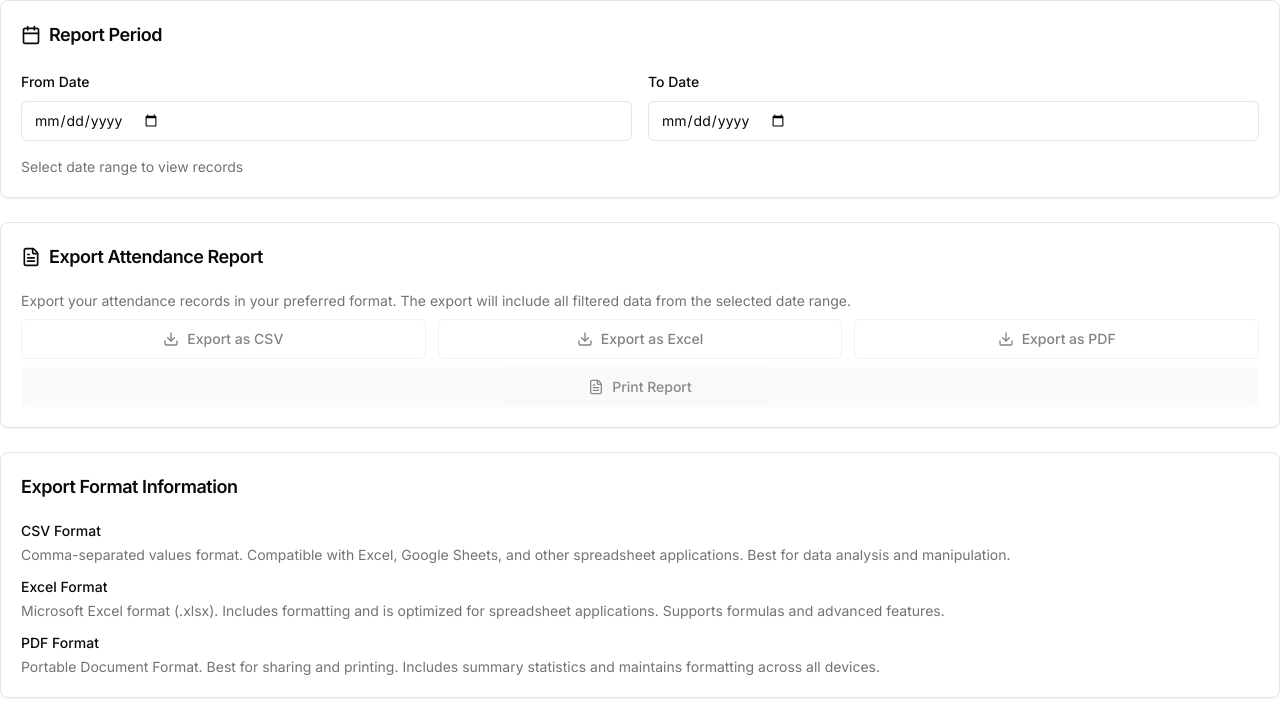
AttendanceReports › should display error message on export failure
In the date field labelled "From Date": (326, 121) 21,101 -> 632,141, type "2024-01-01"
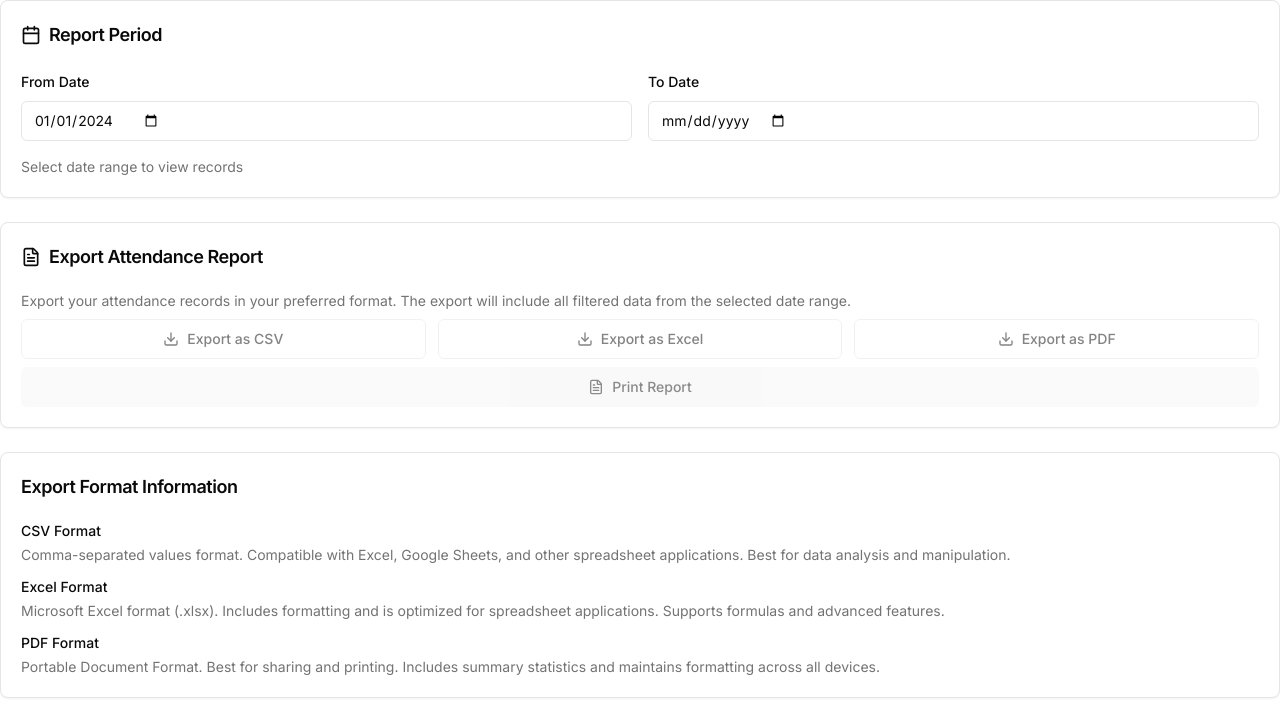
In the date field labelled "To Date": (954, 121) 648,101 -> 1259,141, type "2024-01-31"
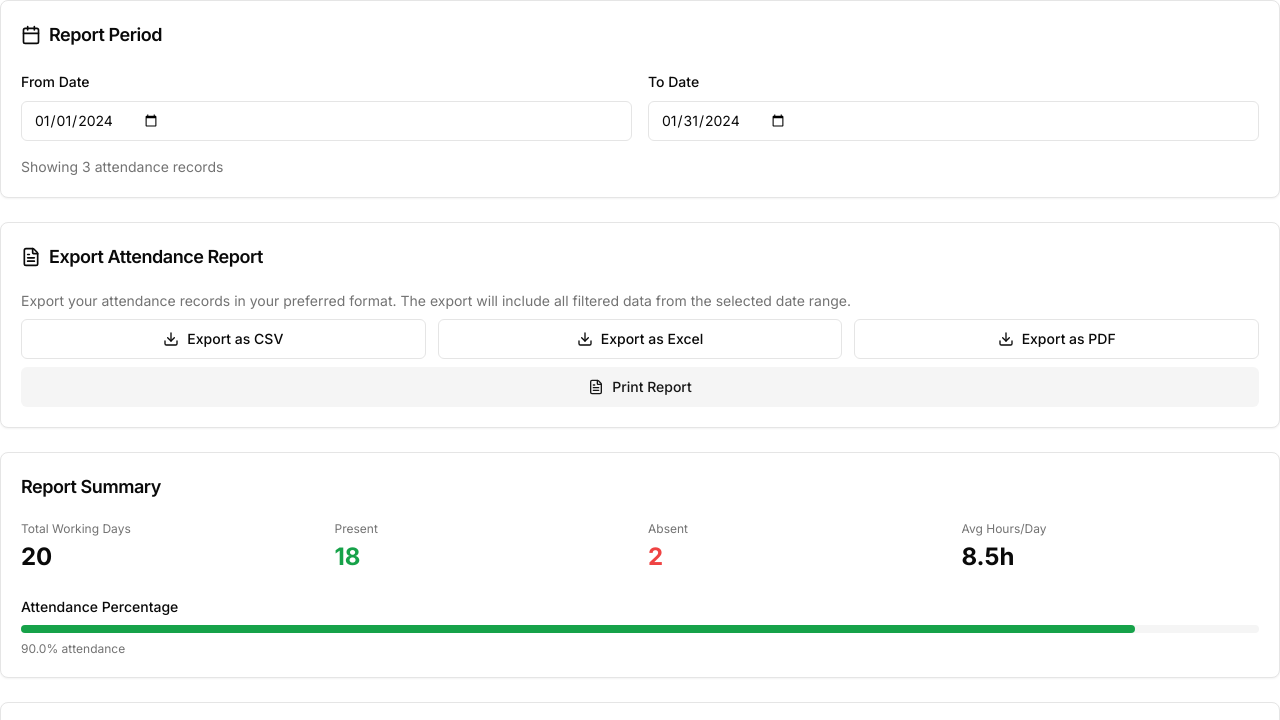
Expected: the button "Export as CSV" is enabled
Click the button "Export as CSV": (223, 339) 21,319 -> 426,359
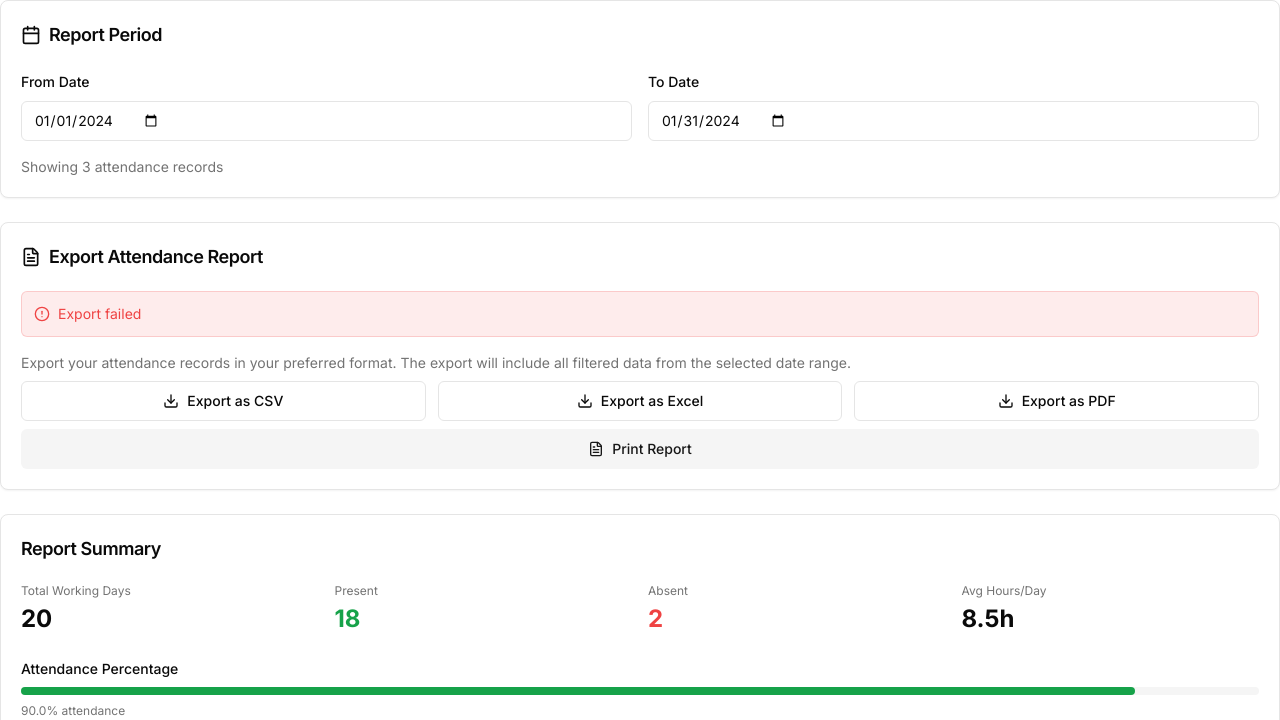
Expected: the text "Export failed" is shown, 58,304 -> 141,324
